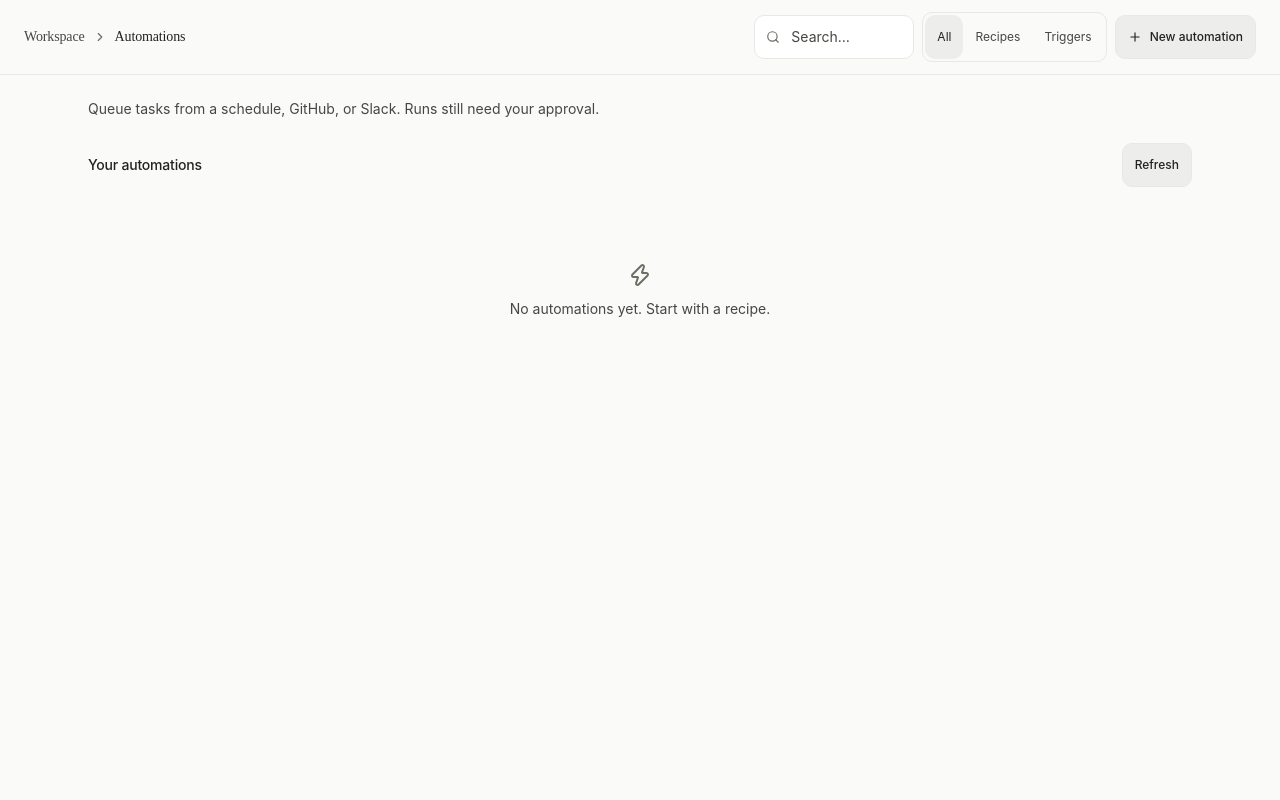
Test case: AutomationsView › shows a quiet empty state and opens recipes from New automation
Check: the text "No automations yet. Start with a recipe." is shown, box [510, 299, 770, 319]
Click the button "New automation" at point(1185, 37), box [1115, 15, 1256, 59]
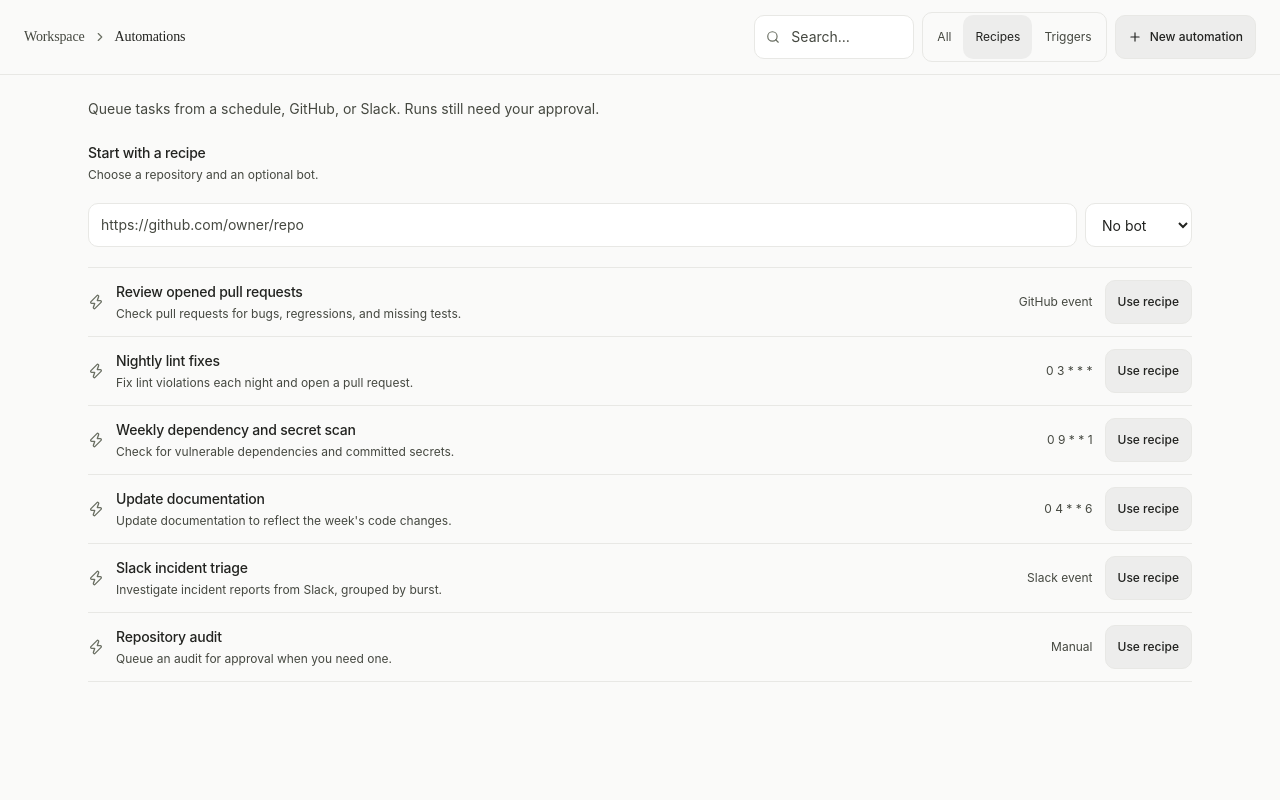
Check: the heading "Start with a recipe" is shown, box [88, 144, 206, 161]
Check: the number of buttons "Use recipe" is 6, box [1104, 280, 1192, 324]; [1104, 349, 1192, 393]; [1104, 418, 1192, 462]; [1104, 487, 1192, 531]; [1104, 556, 1192, 600]; [1104, 625, 1192, 669]
